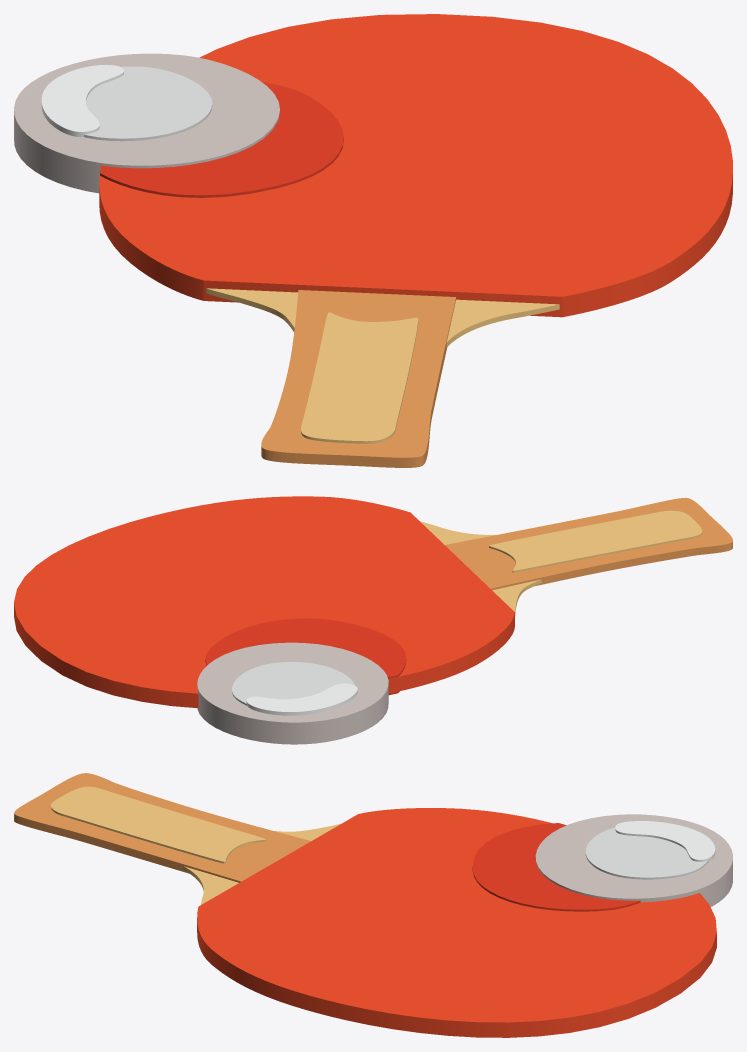
The model's file is emoji_u1f3d3.glb.
The picture shows the model from 3 angles, top to bottom: view 1: azimuth 30°, elevation 25°; view 2: azimuth 150°, elevation 25°; view 3: azimuth 270°, elevation 25°; orthographic projection. The views are drawn at different scales.
Visible parts, largest first — view 1: emoji_u1f3d3; view 2: emoji_u1f3d3; view 3: emoji_u1f3d3.
Part boxes in pixels (<box>): emoji_u1f3d3: <box>14,14,732,467</box>; emoji_u1f3d3: <box>14,496,732,744</box>; emoji_u1f3d3: <box>14,773,732,1037</box>.
Bounding box in the file's own units: 0.0283 × 0.0016 × 0.0339.
